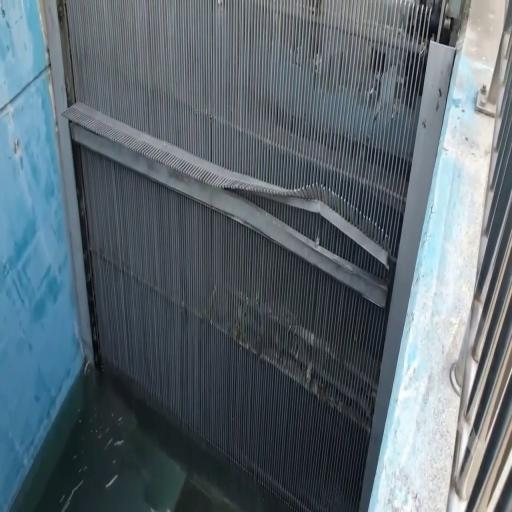rake_broken: (201, 173, 393, 269)
